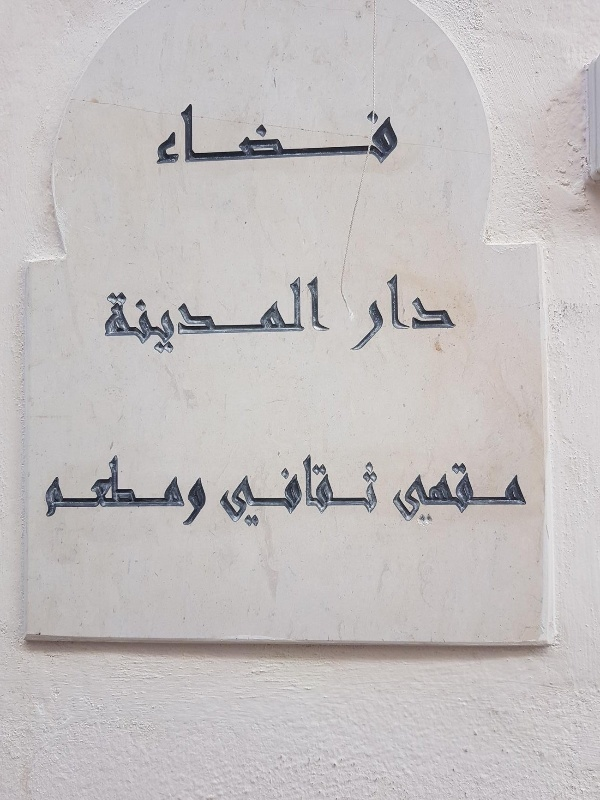text: (353, 272, 368, 352), (369, 272, 384, 352), (385, 272, 400, 352), (401, 272, 416, 352), (417, 272, 432, 352), (433, 272, 448, 352), (113, 275, 128, 354), (129, 275, 144, 354), (145, 275, 160, 354), (161, 275, 176, 354), (177, 275, 192, 354), (193, 275, 208, 354), (209, 275, 224, 354), (225, 275, 240, 354), (241, 275, 256, 354), (257, 275, 272, 354), (273, 275, 288, 354), (289, 275, 304, 354), (305, 275, 320, 354), (161, 96, 176, 174), (177, 96, 192, 174), (193, 96, 208, 174), (209, 96, 224, 174), (225, 96, 240, 174), (241, 96, 256, 174), (257, 96, 272, 174), (273, 96, 288, 174), (289, 96, 304, 174), (305, 96, 320, 174), (321, 96, 336, 174), (337, 96, 352, 174), (353, 96, 368, 174), (369, 96, 384, 174), (385, 96, 400, 174), (225, 452, 240, 528), (241, 452, 256, 528), (257, 452, 272, 528), (273, 452, 288, 528), (289, 452, 304, 528), (305, 452, 320, 528), (321, 452, 336, 528), (337, 452, 352, 528), (353, 452, 368, 528), (513, 463, 529, 527), (49, 453, 64, 521), (65, 453, 80, 521), (81, 453, 96, 521), (97, 453, 112, 521), (113, 453, 128, 521), (129, 453, 144, 521), (145, 453, 160, 521), (161, 453, 176, 521), (401, 463, 416, 527), (417, 463, 432, 527), (433, 463, 448, 527), (449, 463, 464, 527), (465, 463, 480, 527), (481, 463, 496, 527), (497, 463, 512, 527), (148, 96, 160, 174), (193, 473, 208, 532), (369, 452, 380, 528), (177, 453, 189, 521), (321, 275, 331, 354), (449, 272, 458, 352), (103, 275, 112, 354), (217, 452, 224, 528), (392, 463, 400, 527), (209, 473, 217, 532), (348, 272, 352, 352), (45, 453, 48, 521), (401, 96, 402, 174)
